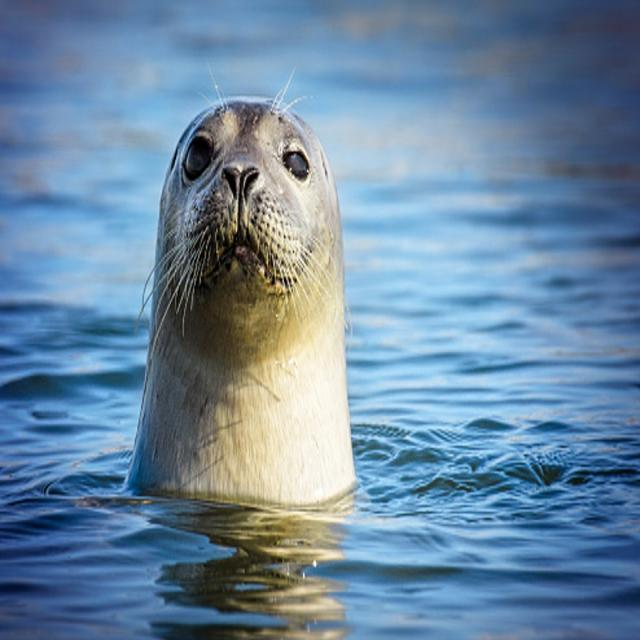WaterDog: (138, 80, 364, 527)
